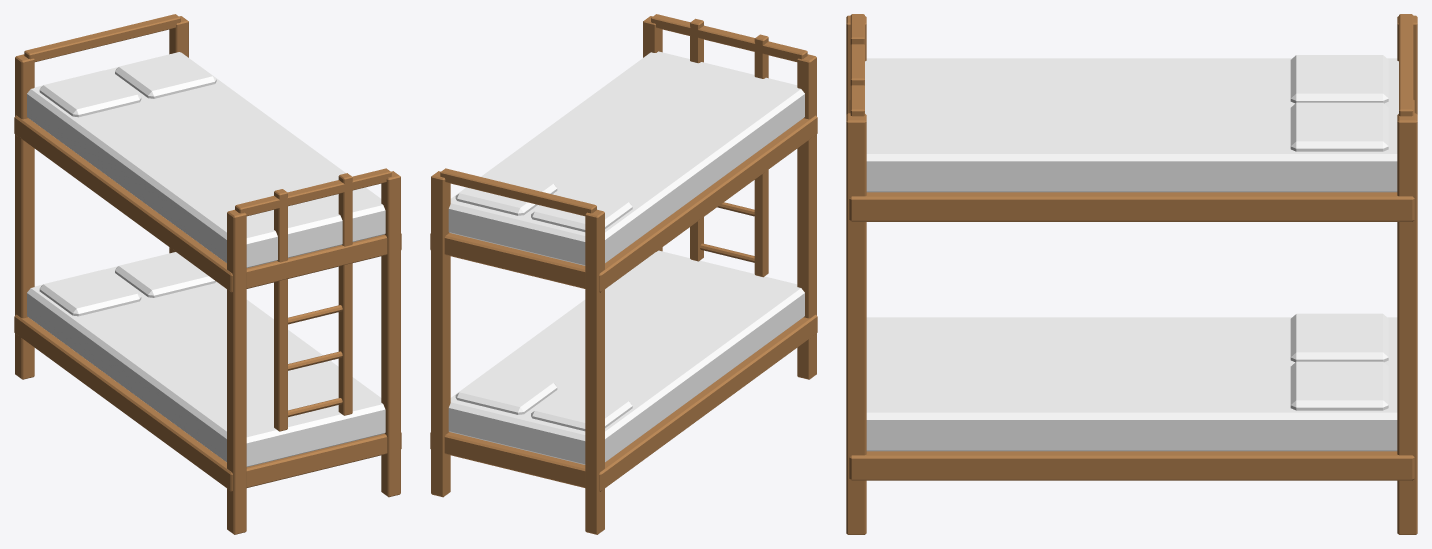
Rendered from bed-bunk-900.glb.
3 renders of one model, left to right at view 1: azimuth 30°, elevation 25°; view 2: azimuth 150°, elevation 25°; view 3: azimuth 270°, elevation 25°, orthographic. The views are drawn at different scales.
Visible parts, largest first — view 1: bed-bunk-900.tint, bed-bunk-900.wood; view 2: bed-bunk-900.tint, bed-bunk-900.wood; view 3: bed-bunk-900.tint, bed-bunk-900.wood.
Boxes of the visible parts, x1,y1,x2,y2 form: bed-bunk-900.tint: (27, 52, 385, 466); bed-bunk-900.wood: (14, 14, 401, 534); bed-bunk-900.tint: (448, 51, 804, 464); bed-bunk-900.wood: (430, 14, 817, 534); bed-bunk-900.tint: (865, 55, 1398, 451); bed-bunk-900.wood: (846, 14, 1417, 534).
Bounding box in the file's own units: 0.9 × 1.65 × 2.
